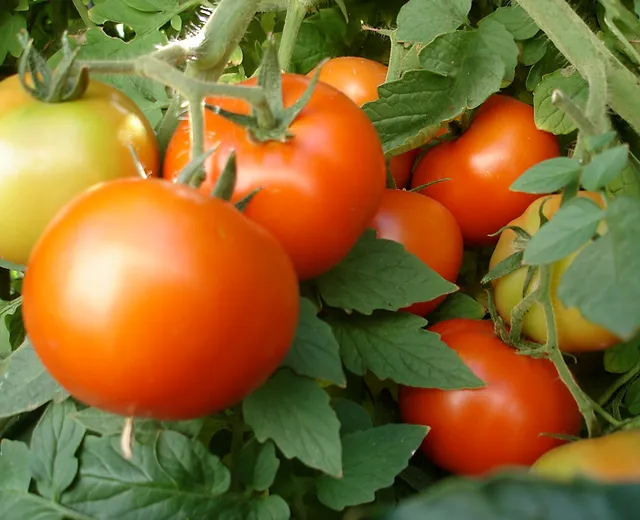tomato: (23, 170, 298, 407)
